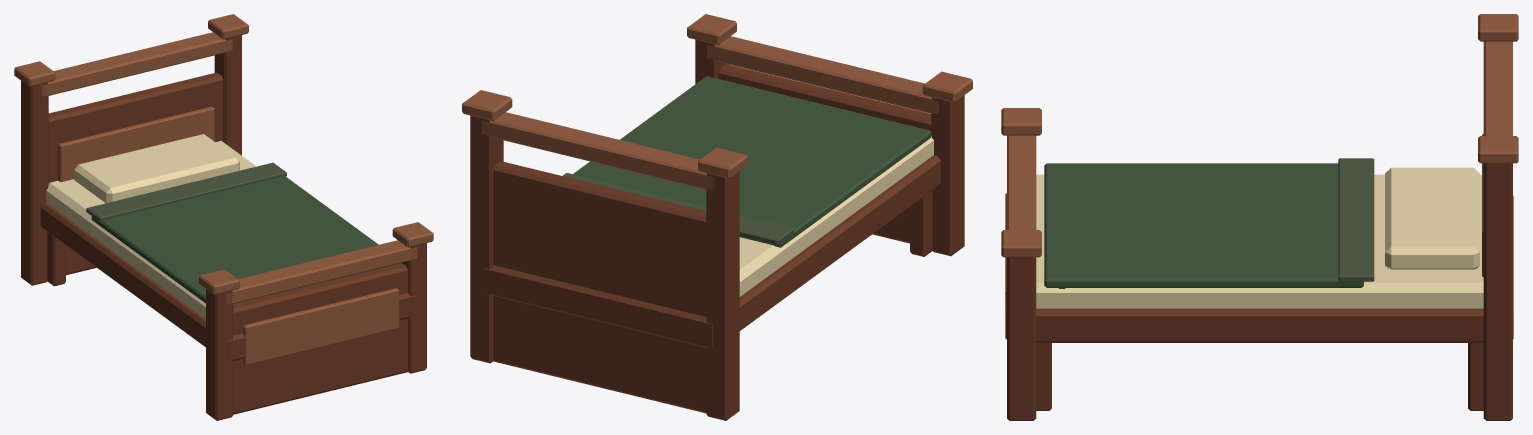
The model's file is dorm_bed.glb.
3 views of the same model, side by side, from view 1: azimuth 30°, elevation 25°; view 2: azimuth 150°, elevation 25°; view 3: azimuth 270°, elevation 25° (orthographic). The views are drawn at different scales.
Visible parts, largest first — view 1: Blanket, HeadFoot_001, HeadFoot, Pillow, Inset_001, Frame, Post, Inset, Crown, Crown_001, Mattress, Post_002 (+8 smaller); view 2: HeadFoot, Blanket, Frame, Post, Crown, Crown_001, Post_001, Mattress, Post_002, HeadFoot_001, Fold, Leg (+5 smaller); view 3: Blanket, Frame, Mattress, Pillow, Post_001, Post_003, Fold, Crown, Crown_001, Cap, Cap_001, Cap_003 (+3 smaller).
Part boxes in pixels (bbox=[...]): Blanket: bbox=[91, 176, 395, 303]; HeadFoot_001: bbox=[233, 263, 407, 414]; HeadFoot: bbox=[48, 72, 223, 275]; Pillow: bbox=[74, 134, 239, 203]; Inset_001: bbox=[243, 288, 399, 365]; Frame: bbox=[40, 202, 416, 360]; Post: bbox=[21, 81, 48, 285]; Inset: bbox=[58, 106, 214, 181]; Crown: bbox=[42, 32, 232, 96]; Crown_001: bbox=[226, 240, 417, 304]; Mattress: bbox=[46, 141, 256, 318]; Post_002: bbox=[206, 289, 233, 420]; HeadFoot: bbox=[493, 161, 706, 413]; Blanket: bbox=[573, 76, 931, 247]; Frame: bbox=[483, 155, 940, 347]; Post: bbox=[706, 171, 739, 420]; Crown: bbox=[482, 112, 714, 190]; Crown_001: bbox=[707, 36, 938, 114]; Post_001: bbox=[470, 115, 503, 363]; Mattress: bbox=[739, 136, 933, 296]; Post_002: bbox=[931, 95, 964, 256]; HeadFoot_001: bbox=[718, 64, 931, 243]; Fold: bbox=[562, 173, 794, 245]; Leg: bbox=[910, 190, 932, 256]; Blanket: bbox=[1044, 163, 1363, 287]; Frame: bbox=[1006, 196, 1513, 342]; Mattress: bbox=[1036, 174, 1483, 308]; Pillow: bbox=[1385, 167, 1479, 269]; Post_001: bbox=[1483, 163, 1512, 420]; Post_003: bbox=[1007, 257, 1036, 420]; Fold: bbox=[1338, 158, 1374, 281]; Crown: bbox=[1483, 41, 1512, 135]; Crown_001: bbox=[1007, 135, 1036, 229]; Cap: bbox=[1478, 14, 1518, 41]; Cap_001: bbox=[1478, 136, 1518, 163]; Cap_003: bbox=[1001, 230, 1041, 257].
Size of the model in its own units: 1.46 by 1.33 by 2.29.
